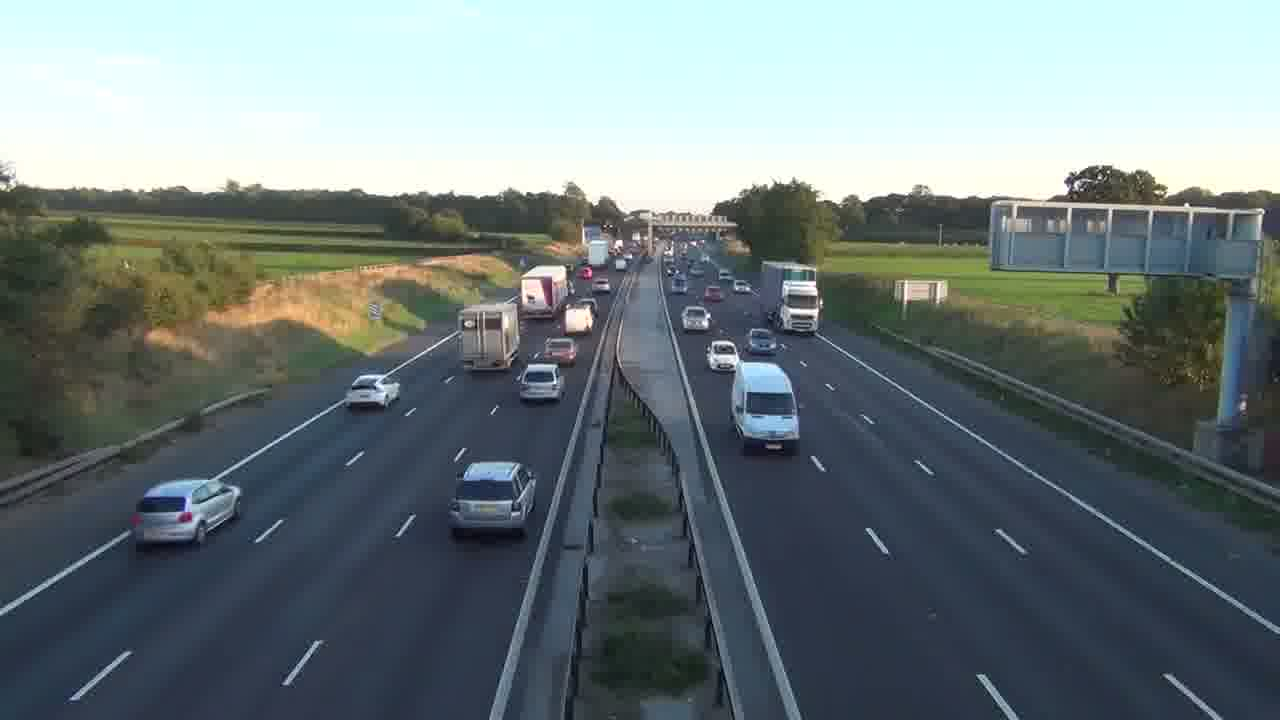car: (130, 477, 242, 549), (447, 460, 538, 538), (517, 362, 565, 403), (706, 339, 739, 374), (745, 327, 778, 355), (680, 306, 712, 333)
truck: (730, 361, 801, 454), (461, 302, 522, 371), (779, 280, 823, 335)
